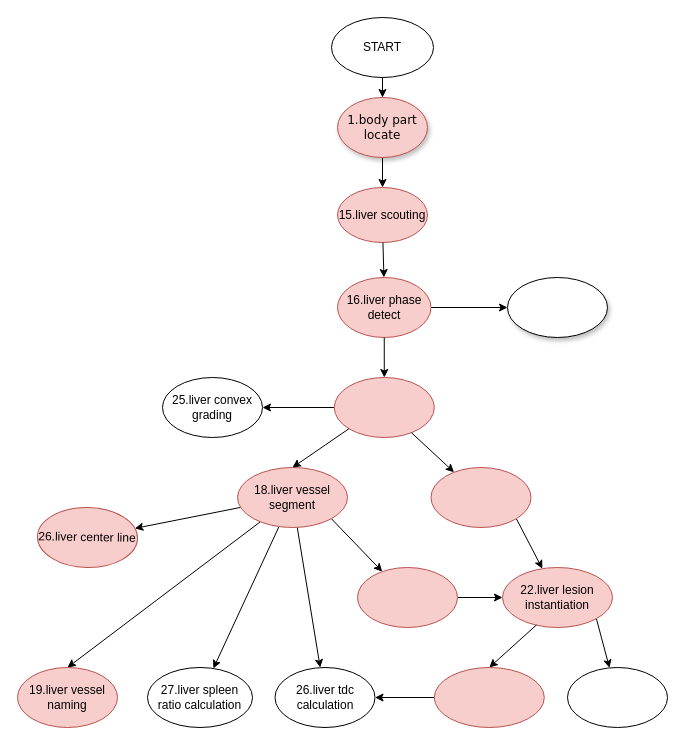
Image size: 685x745. Some labels were removed from this diagram. The centre of each missing label's shape, as x and y in pixels:
"17.liver organ segment" belongs at (383,407).
"20.liver registration" belongs at (480,497).
"21.liver lesion segment" belongs at (407,597).
"23. liver lesion projection" belongs at (488,697).
"24.liver lesion diagnosis" belongs at (617,697).
"32 Abdomen BoneSegment" belongs at (558,308).
